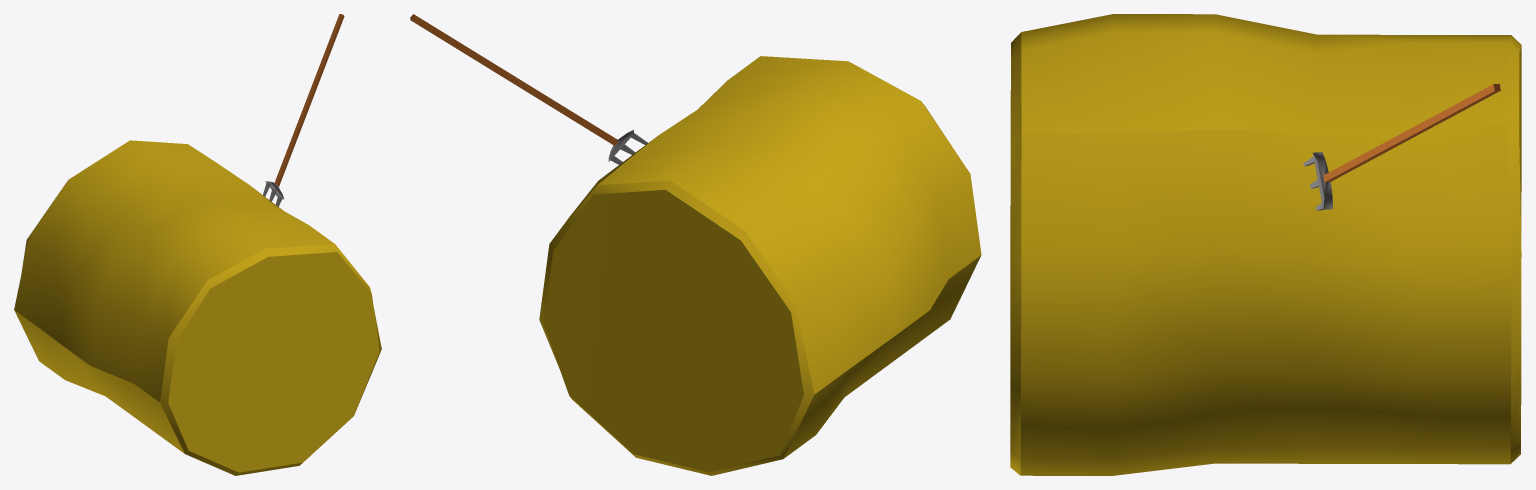
Rendered from Botte de foin#3.FBX.
The picture shows the model from 3 angles, left to right: view 1: azimuth 30°, elevation 25°; view 2: azimuth 150°, elevation 25°; view 3: azimuth 270°, elevation 25°; orthographic projection. The views are drawn at different scales.
Visible parts, largest first — view 1: Cylinder001; view 2: Cylinder001; view 3: Cylinder001.
Boxes of the visible parts, x1=… form: Cylinder001: x1=14, y1=14, x2=381, y2=475; Cylinder001: x1=410, y1=14, x2=981, y2=475; Cylinder001: x1=1010, y1=14, x2=1521, y2=475.
Size of the model in its own units: 87.59 by 77.75 by 66.22.
